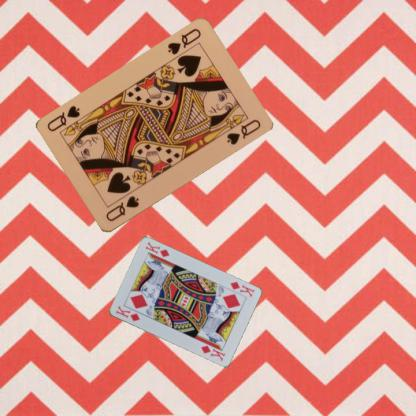Kd: (227, 279, 255, 299), (113, 304, 141, 322)
Qs: (165, 26, 202, 57), (103, 194, 140, 224)
